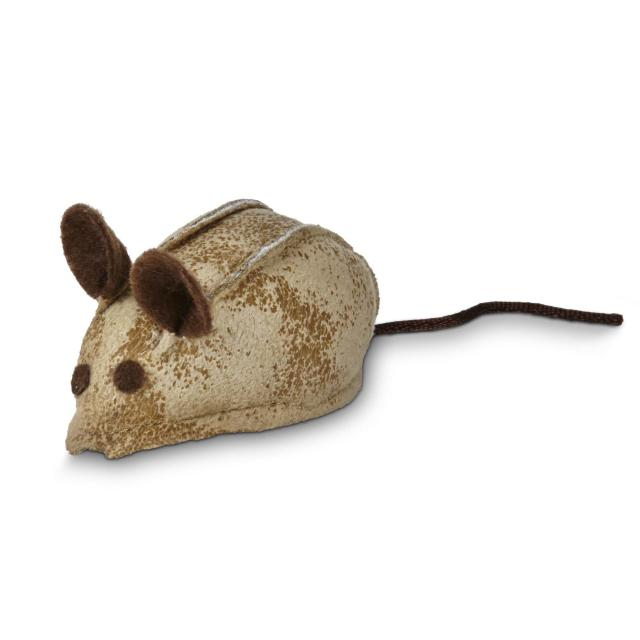Mouse: (42, 197, 630, 473)
